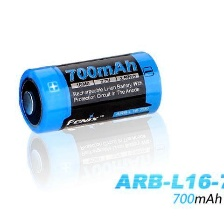battery: (15, 47, 167, 136), (24, 111, 172, 198)
